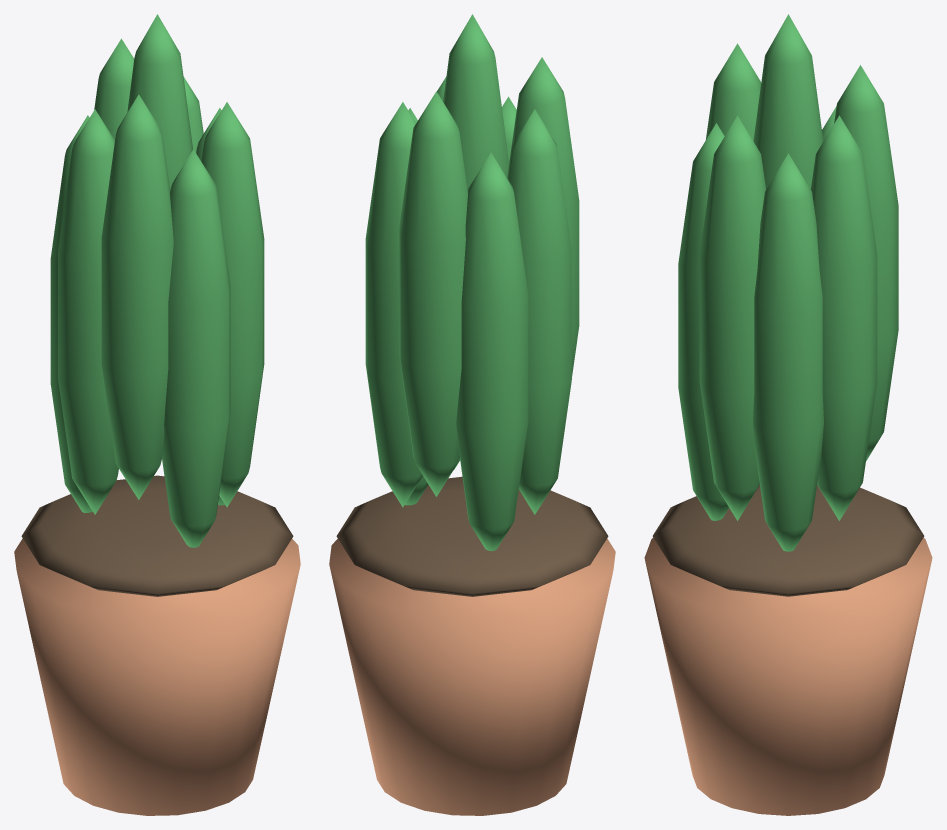
Rendered from plant.fbx.
3 renders of one model, left to right at view 1: azimuth 30°, elevation 25°; view 2: azimuth 150°, elevation 25°; view 3: azimuth 270°, elevation 25°, orthographic.
Parts seen in each view (by area): view 1: plant; view 2: plant; view 3: plant.
Part boxes in pixels (bbox=[...]): plant: bbox=[14, 14, 300, 815]; plant: bbox=[329, 14, 615, 815]; plant: bbox=[644, 14, 932, 815].
Size of the model in its own units: 0.36 by 1.05 by 0.36.
